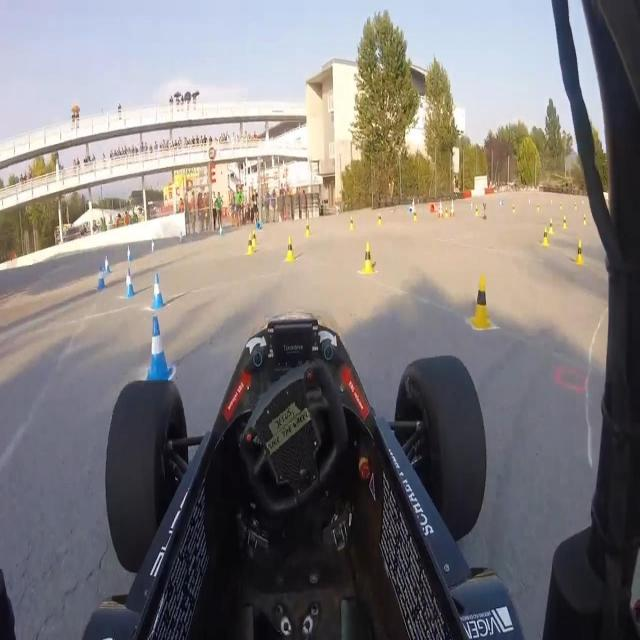blue_cone: (139, 318, 177, 402), (147, 261, 166, 309), (96, 248, 115, 293), (121, 268, 138, 300)
yellow_cone: (356, 234, 380, 283), (468, 283, 492, 330), (281, 236, 302, 261), (244, 229, 258, 251)
